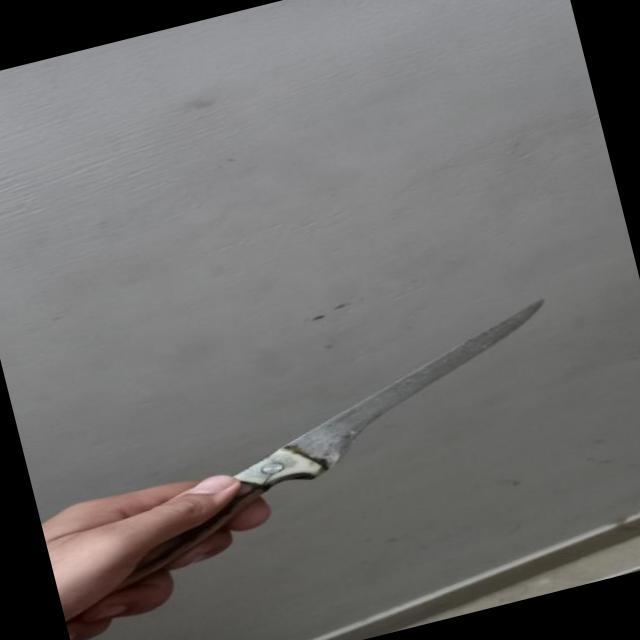Knife: (90, 295, 588, 581)
